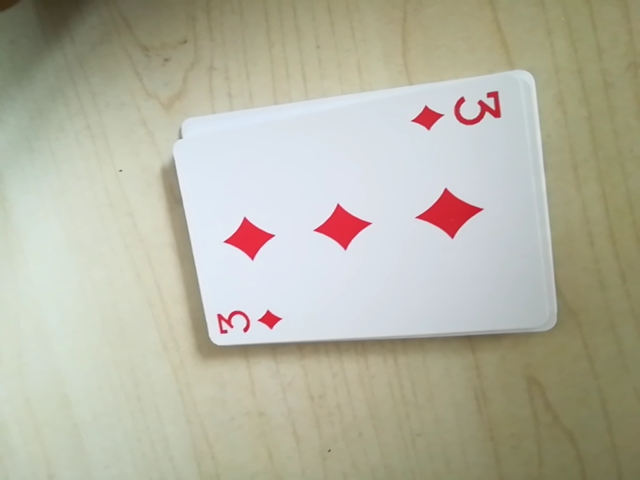fk 3: (407, 85, 509, 137), (212, 299, 290, 345)
